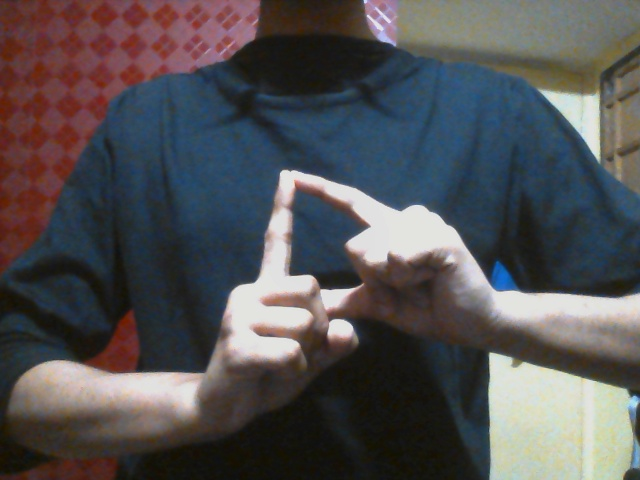D: (204, 168, 482, 445)
